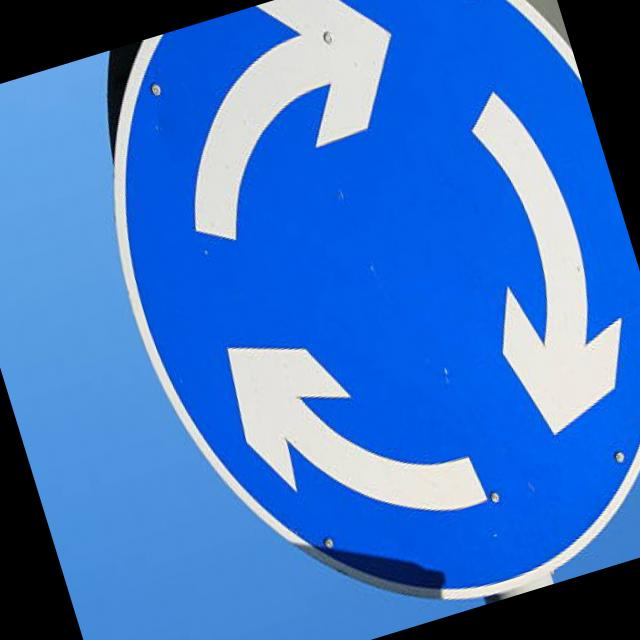round_about: (33, 0, 640, 640)
